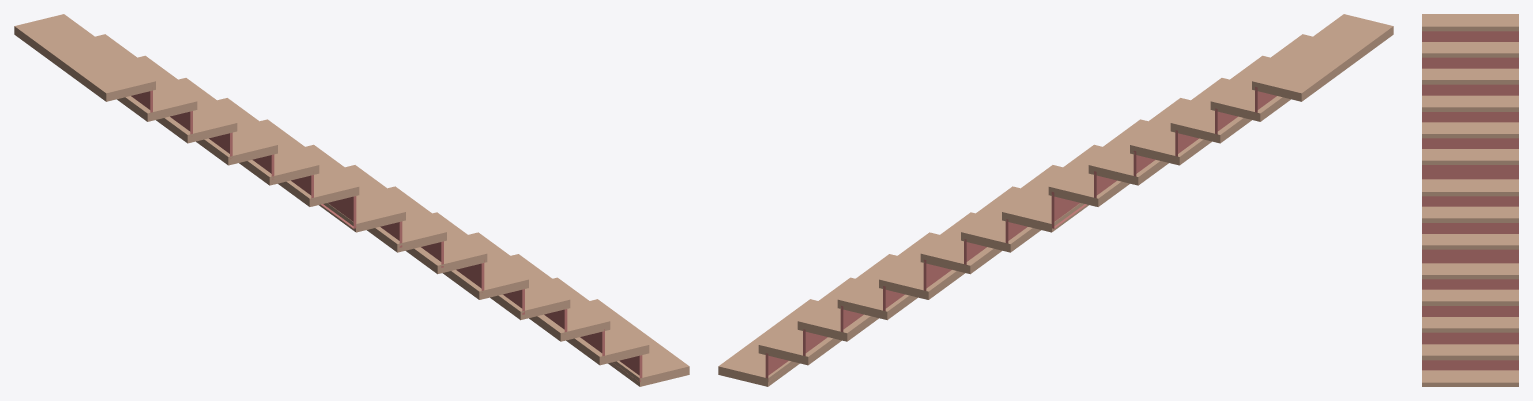
File: InteriorStaircase.fbx
The picture shows the model from 3 angles, left to right: view 1: azimuth 30°, elevation 25°; view 2: azimuth 150°, elevation 25°; view 3: azimuth 270°, elevation 25°; orthographic projection. The views are drawn at different scales.
Parts seen in each view (by area): view 1: Stairs_LOD0; view 2: Stairs_LOD0; view 3: Stairs_LOD0.
Boxes of the visible parts, x1,y1,x2,y2 form: Stairs_LOD0: (14,14,689,386); Stairs_LOD0: (718,14,1393,386); Stairs_LOD0: (1422,14,1518,386).
Size of what is drawn, in the model's own units: 298 by 207 by 81.4.
